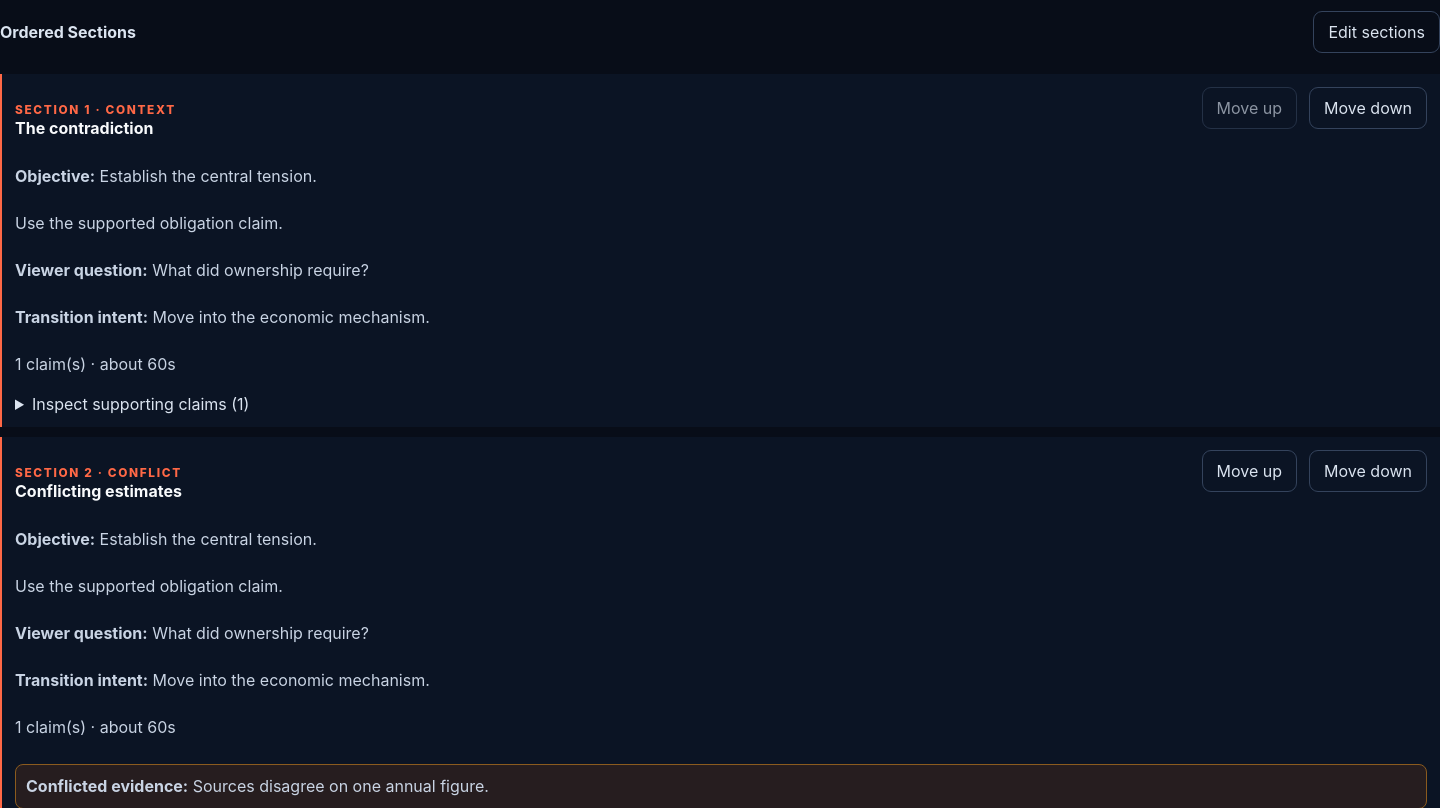
it: renders evidence traceability, conflicts, gaps, and explicitly approves a ready outline
(page scrolled)
Expected: the text "Conflicted evidence:" is shown, [26, 776, 188, 796]
Click the heading "Inspect supporting claims (1)" at (141, 404), box [32, 394, 249, 414]
(page scrolled)
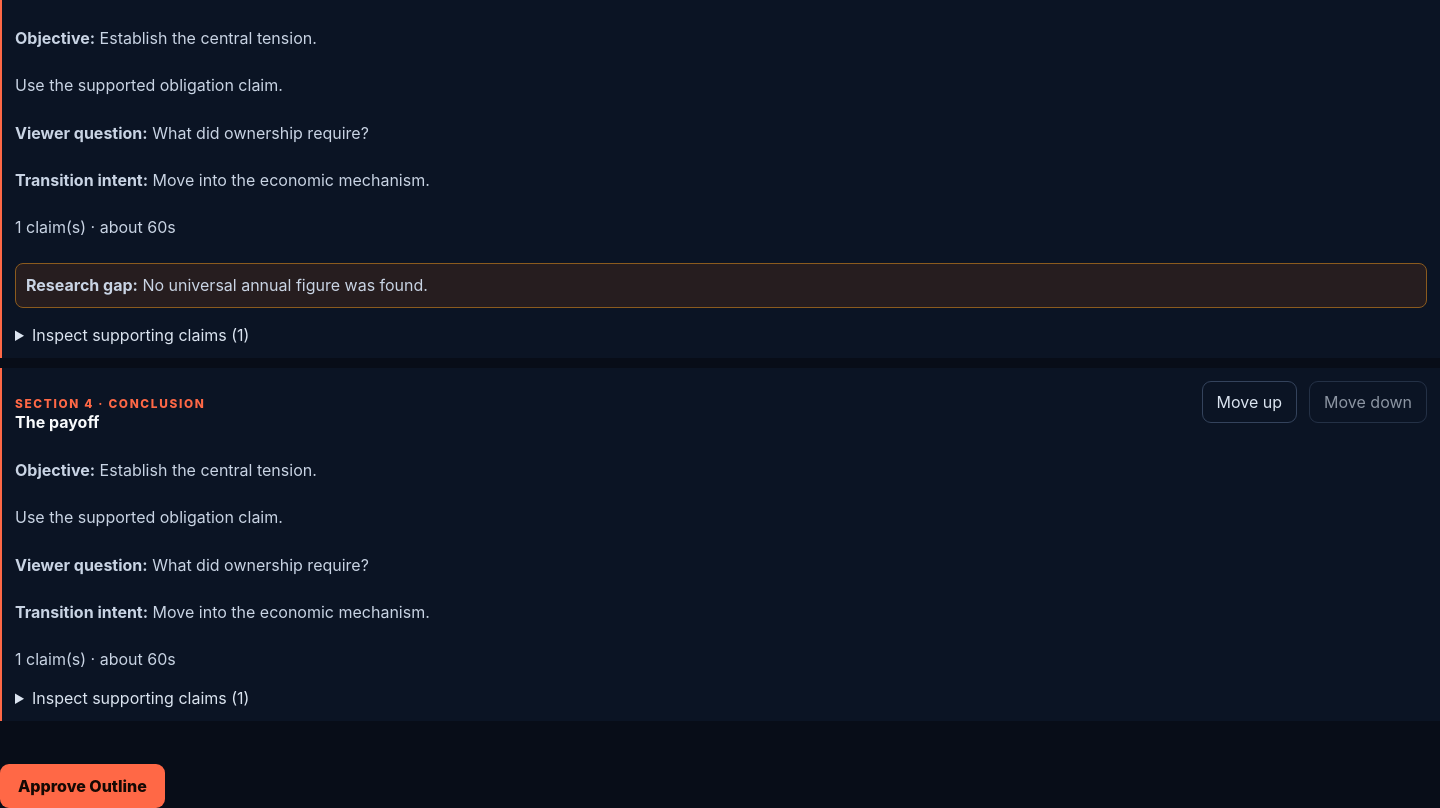
Click the button "Approve Outline" at (82, 786), box [0, 764, 165, 807]
(page scrolled)
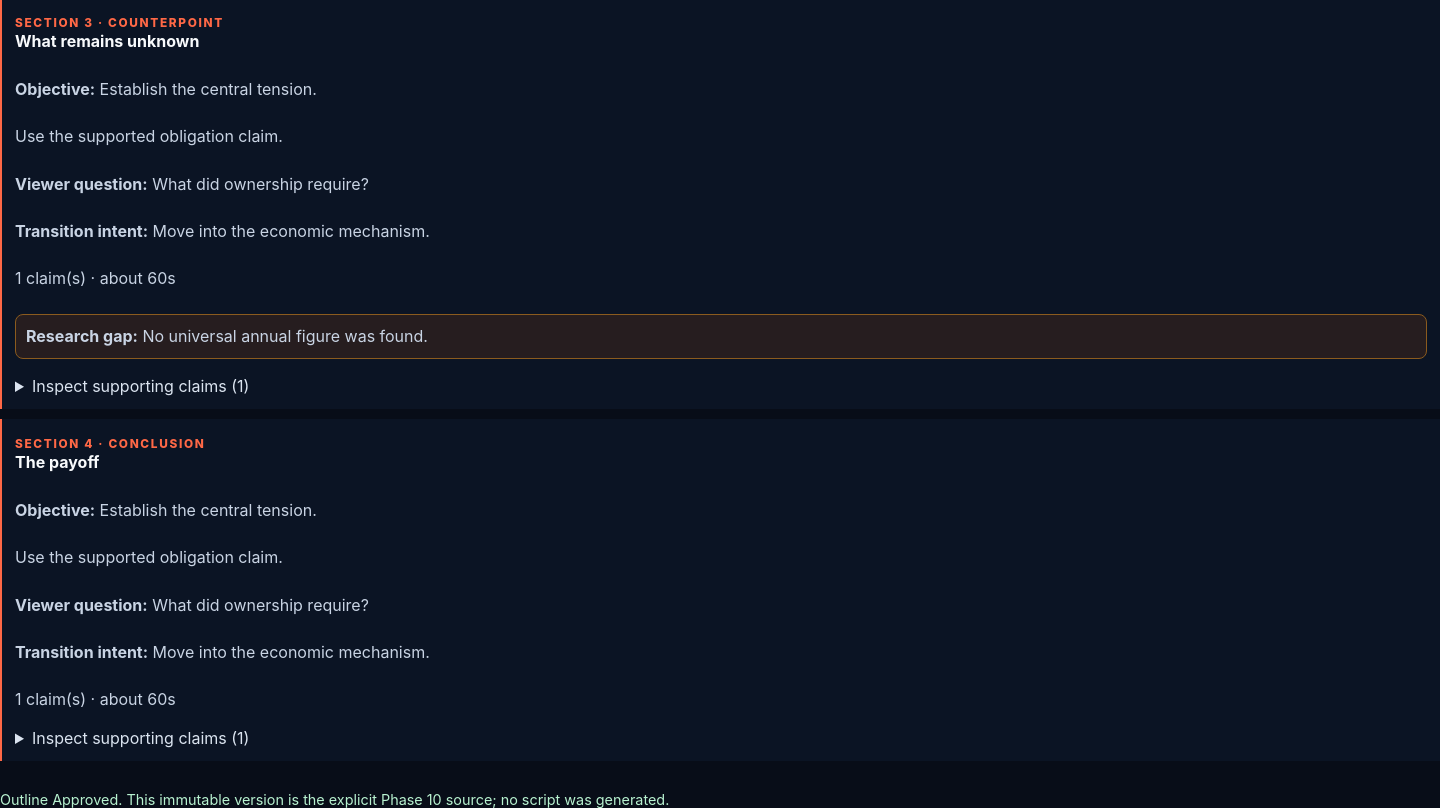
Expected: the button "Move up" is not shown
Expected: the text "Outline Approved" is shown, [0, 791, 669, 807]
